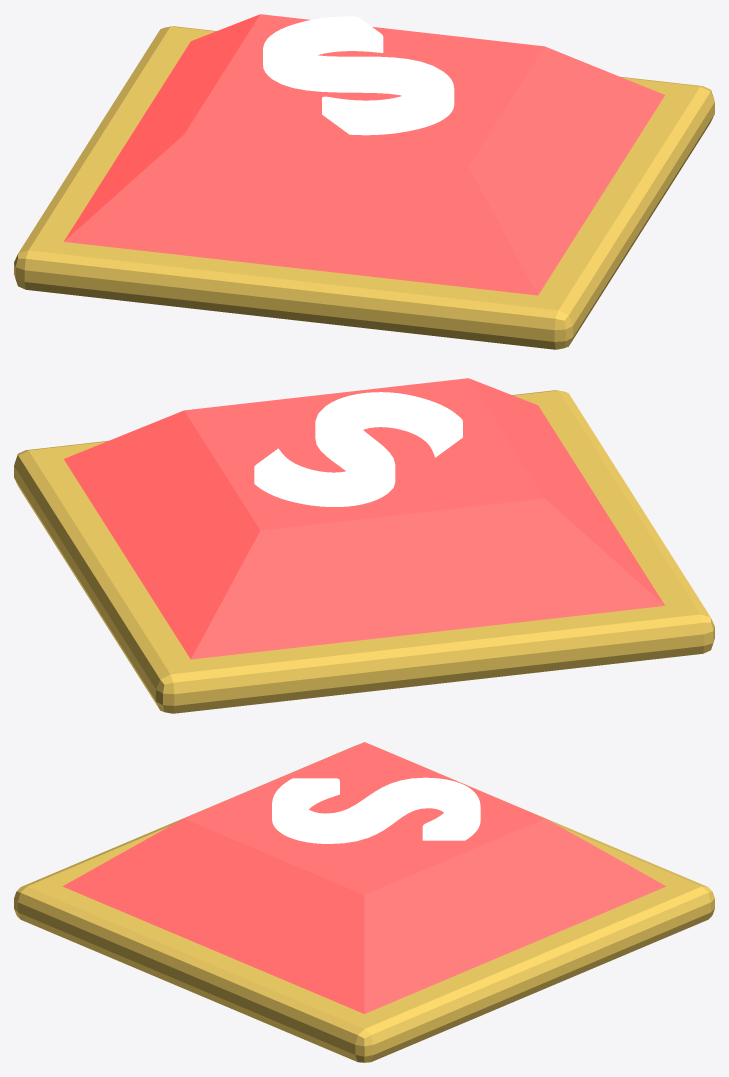
File: SM_Pickup_Spread.fbx
The picture shows the model from 3 angles, top to bottom: view 1: azimuth 30°, elevation 25°; view 2: azimuth 150°, elevation 25°; view 3: azimuth 270°, elevation 25°; orthographic projection. The views are drawn at different scales.
Parts seen in each view (by area): view 1: SM_Pickup_Spread; view 2: SM_Pickup_Spread; view 3: SM_Pickup_Spread.
Part boxes in pixels (x1,y1,x2,y2): SM_Pickup_Spread: (14, 14, 714, 349); SM_Pickup_Spread: (14, 378, 714, 713); SM_Pickup_Spread: (14, 742, 714, 1062).
Size of the model in its own units: 1.12 by 0.261 by 1.12.
